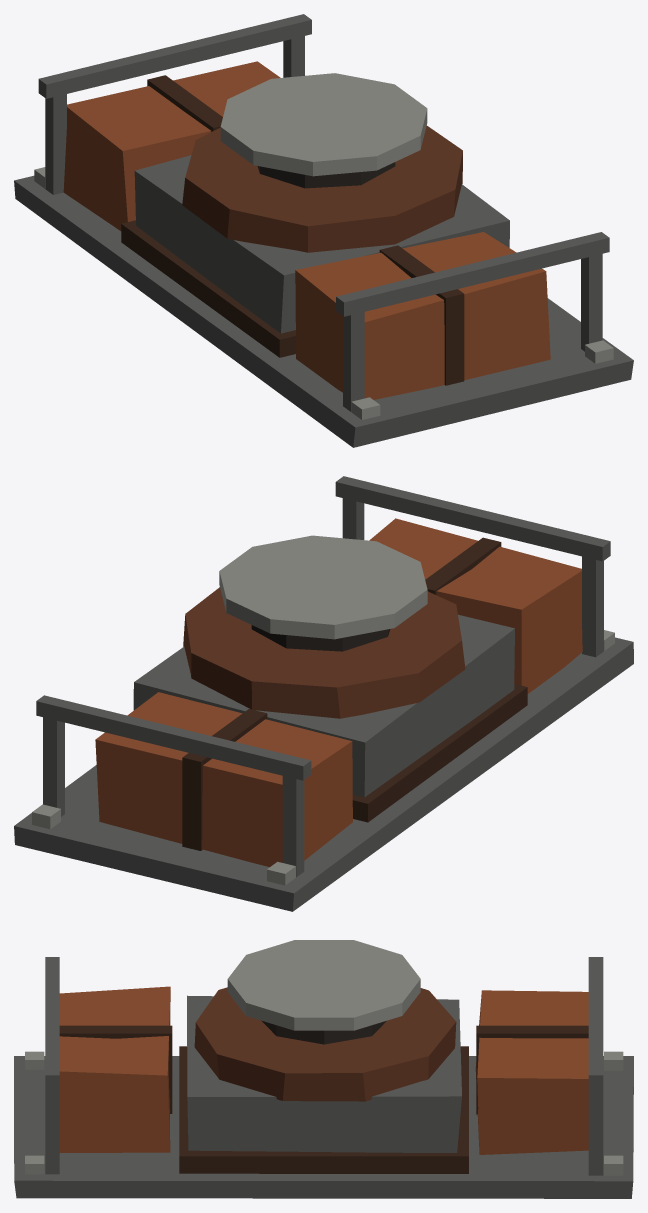
The model's file is wmount_cradle.glb.
3 renders of one model, top to bottom at view 1: azimuth 30°, elevation 25°; view 2: azimuth 150°, elevation 25°; view 3: azimuth 270°, elevation 25°, orthographic. The views are drawn at different scales.
Parts seen in each view (by area): view 1: wmount_cradle; view 2: wmount_cradle; view 3: wmount_cradle.
Part boxes in pixels (<box>): wmount_cradle: <box>14,14,633,447</box>; wmount_cradle: <box>14,476,633,911</box>; wmount_cradle: <box>14,940,633,1198</box>.
Bounding box in the file's own units: 0.6131 × 0.3624 × 1.28.
